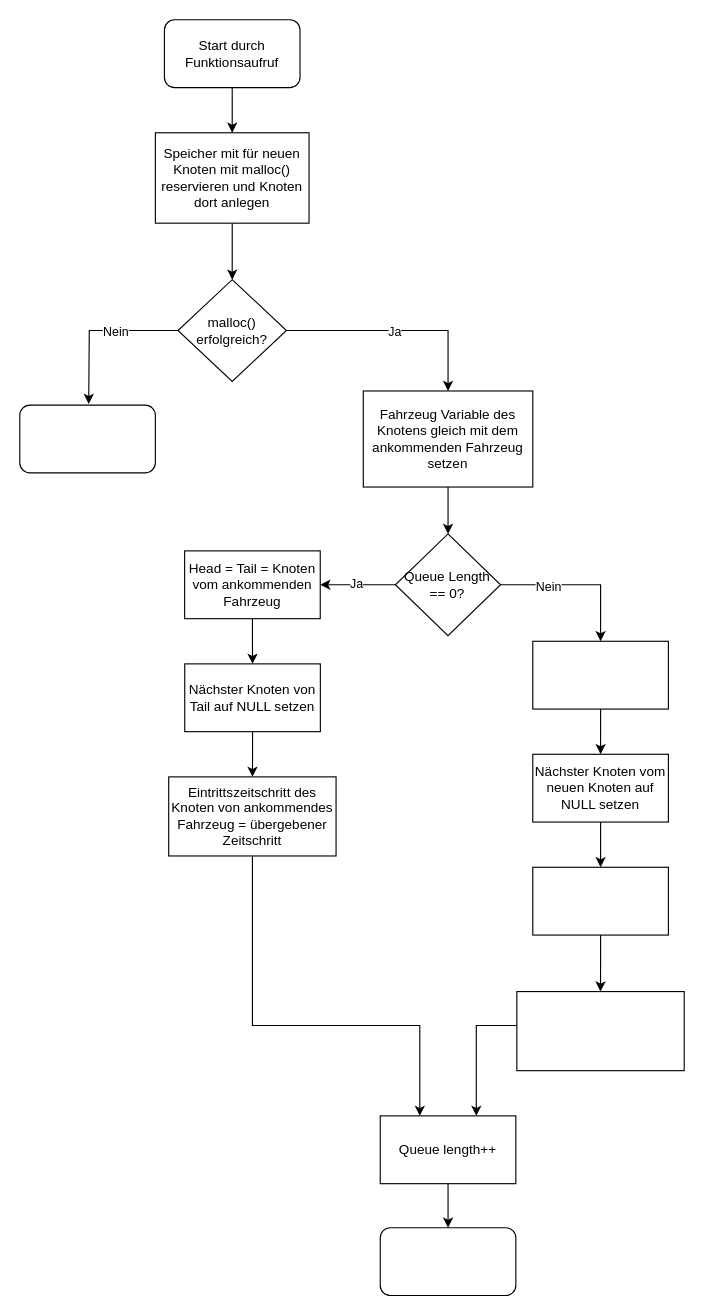
The diagram is 704 pixels wide and 1315 high, and some of its shapes have lost their labels. The shapes that lost their labels are listed below. From the top down, each one's box as (x1, y1, x2, y2) in pixels, then its label:
(19, 404, 155, 473): Abbruch
(532, 640, 668, 709): Queue tail.next = neuer Knoten
(532, 866, 668, 935): Tail aktualisieren
(516, 990, 684, 1071): Eintrittszeitschritt von tail = übergebener Zeitschritt
(379, 1227, 516, 1296): Ende
